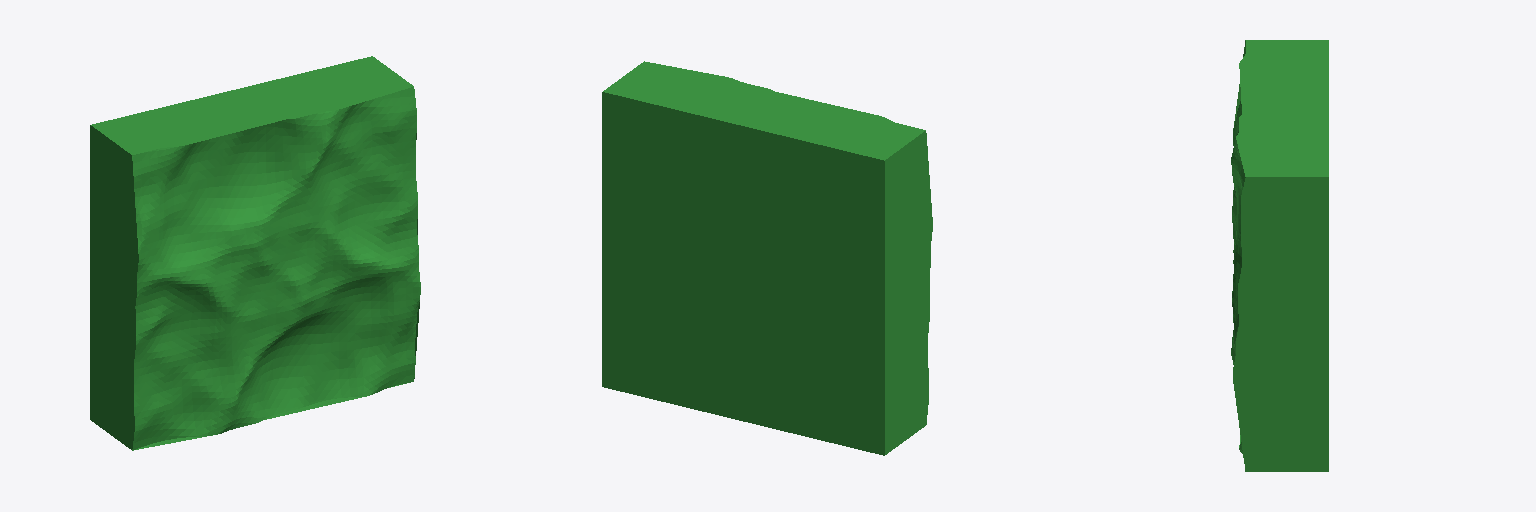
The model's file is topo1.obj.
3 renders of one model, left to right at view 1: azimuth 30°, elevation 25°; view 2: azimuth 150°, elevation 25°; view 3: azimuth 270°, elevation 25°, orthographic.
Visible parts, largest first — view 1: topo1; view 2: topo1; view 3: topo1.
Part boxes in pixels (x1,y1,x2,y2): topo1: (90,56,420,450); topo1: (602,61,932,455); topo1: (1231,40,1328,471).
Size of the model in its own units: 100 by 100 by 30.